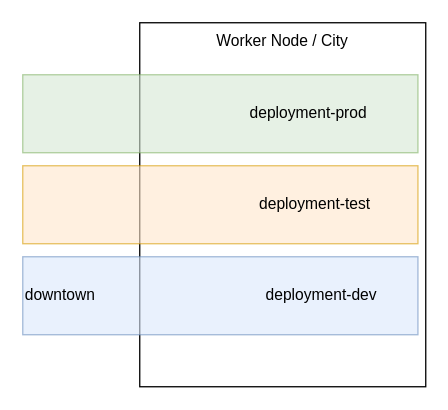
This 448x410 diagram has some shape labels left out. Each missing label, with the box of its shape:
area between uptown & downtown: (21, 164, 418, 244)
uptown: (21, 73, 418, 153)
